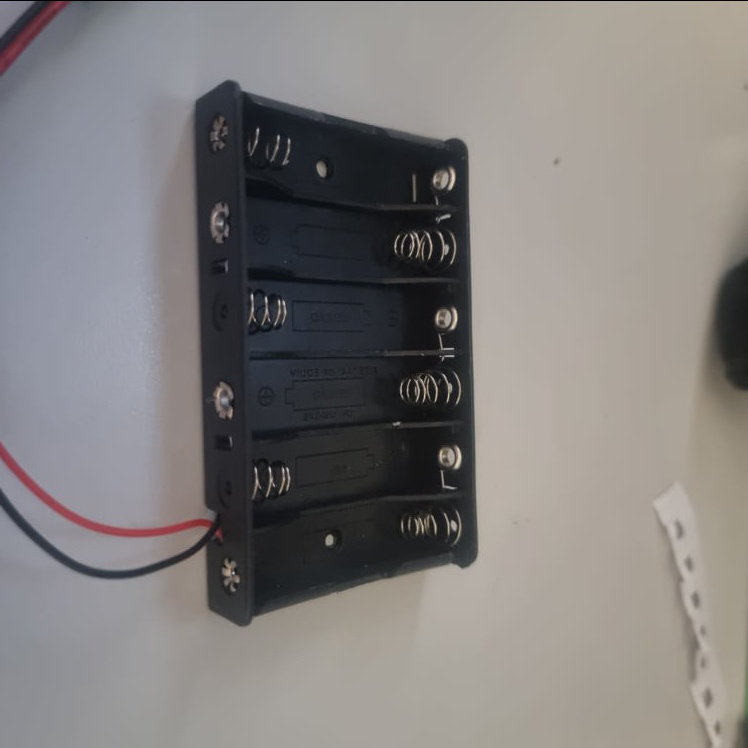BATTERY BOX: (200, 80, 479, 629)
